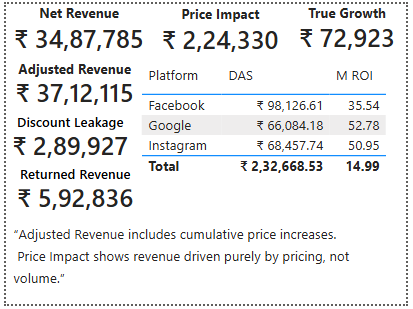

The dashboard page shown, as its layout file describes it:
{"tool":"powerbi","page":{"name":"Tooltip - Revenue Attribution","canvas":[320,240],"ordinal":5},"visuals":[{"type":"card","title":"Net Revenue","fields":{"Values":["_Sales Measures.Net Revenue"]},"box":[0,0,117,45],"z":0},{"type":"card","title":"Adjusted Revenue ","fields":{"Values":["_Sales Measures.Adjusted Revenue"]},"box":[0,45,110,42],"z":1000},{"type":"card","title":"Returned Revenue","fields":{"Values":["_Sales Measures.Returned Revenue"]},"box":[1,129,109,40],"z":2000},{"type":"card","title":"Discount Leakage","fields":{"Values":["_Sales Measures.Discount Leakage"]},"box":[0,87,103,42],"z":3000},{"type":"tableEx","fields":{"Values":["Ads_Campaigns.Platform","_Sales Measures.Daily Ad Spend","_Sales Measures.Marketing ROI"]},"box":[103,44,217,105],"z":4000},{"type":"textbox","box":[1,169,319,169],"z":5000},{"type":"card","title":"Price Impact","fields":{"Values":["_Sales Measures.Price Impact"]},"box":[117,1,109,44],"z":6000},{"type":"card","title":"True Growth","fields":{"Values":["_Sales Measures.True Growth"]},"box":[226,0,94,44],"z":7000}]}

Visuals, with their boxes in screenshot pixels (x1, y1, x2, y2), scaled from the page's 320x240 canvas onto the 413x309 screenshot:
"Net Revenue" card: (0,0,151,58)
"Adjusted Revenue " card: (0,58,142,112)
"Returned Revenue" card: (1,166,142,218)
"Discount Leakage" card: (0,112,133,166)
tableEx - Ads_Campaigns.Platform x _Sales Measures.Daily Ad Spend: (133,57,412,192)
textbox: (1,218,412,308)
"Price Impact" card: (151,1,292,58)
"True Growth" card: (292,0,412,57)
